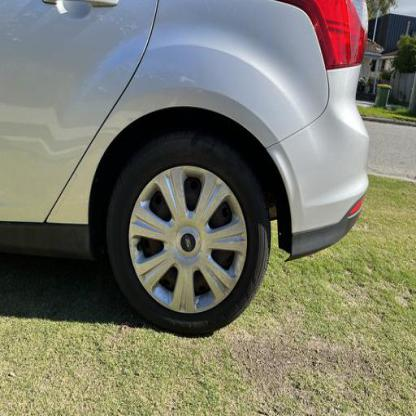Tire: (106, 129, 272, 337)
